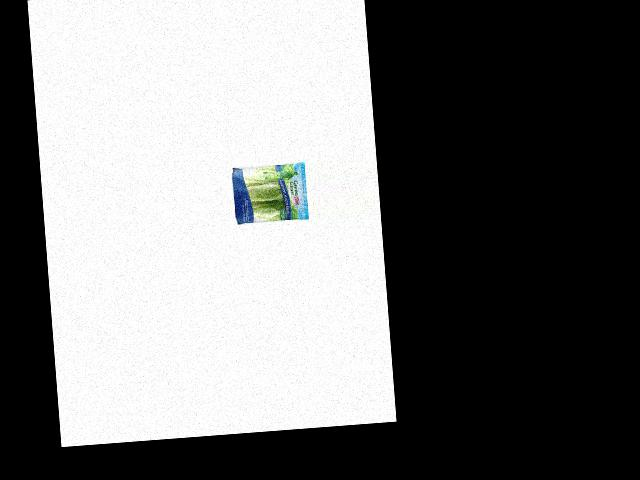lettuce: (228, 160, 305, 225)
